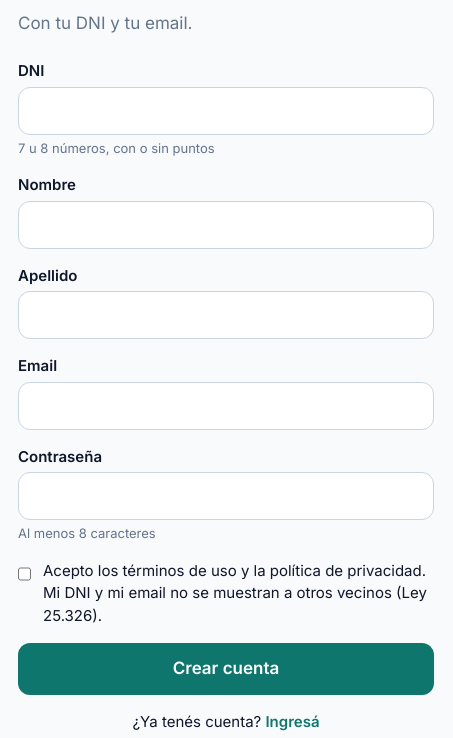
Test: Registro (CU-01) › valida en el navegador antes de enviar
(page scrolled)
Click the button "Crear cuenta".
click(226, 669)  # box 18,643 -> 434,695
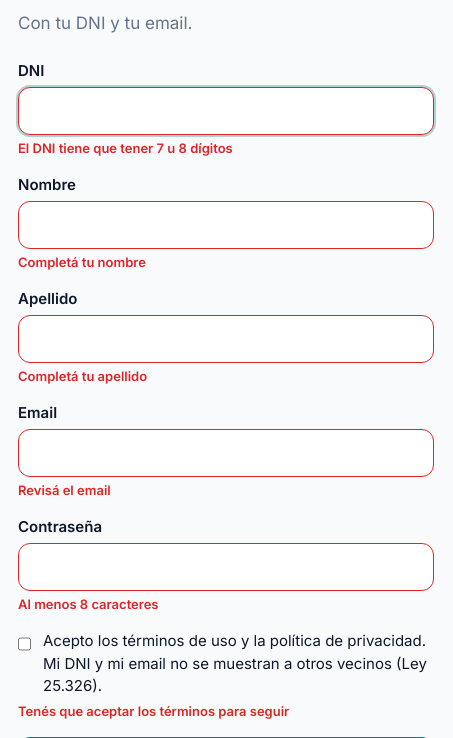
Expected: the text "El DNI tiene que tener 7 u 8 dígitos" is shown, 18,140 -> 233,156
Expected: the text "Tenés que aceptar los términos para seguir" is shown, 18,702 -> 289,718
